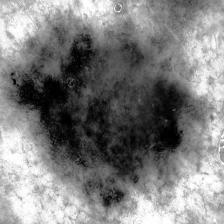Benign Marking or Mole: (2, 20, 205, 209)
